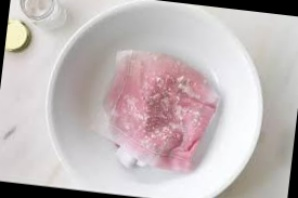wine: (101, 67, 216, 164)
